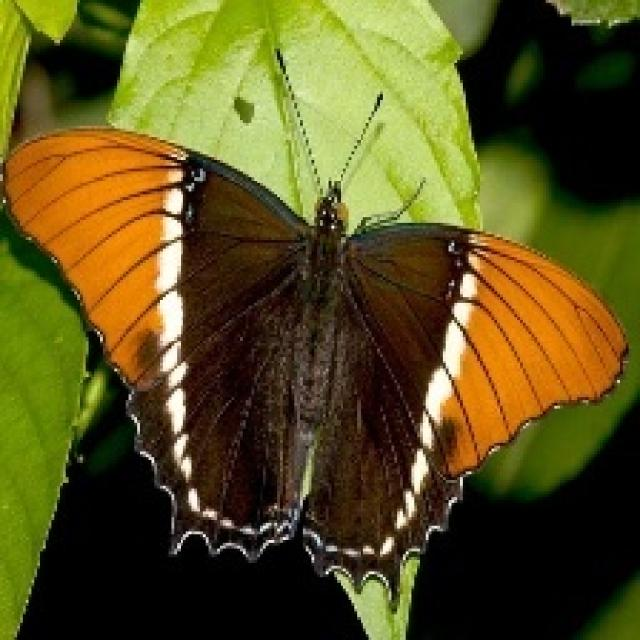butterfly: (0, 46, 629, 600)
